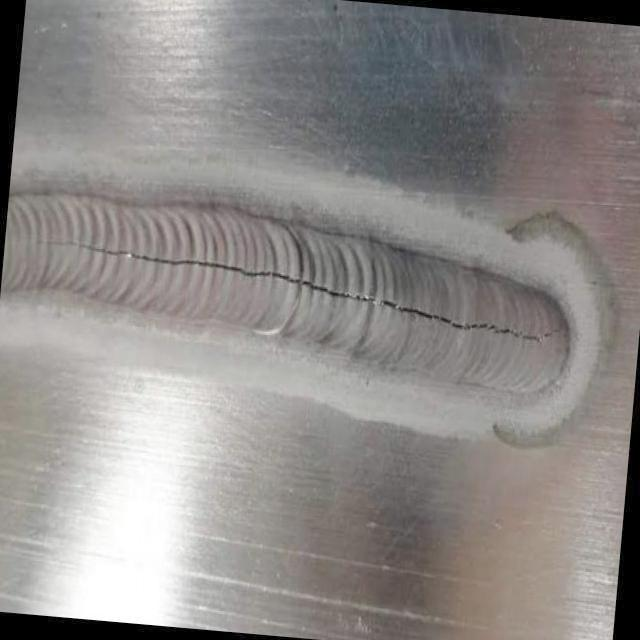defect: (28, 238, 569, 352)
